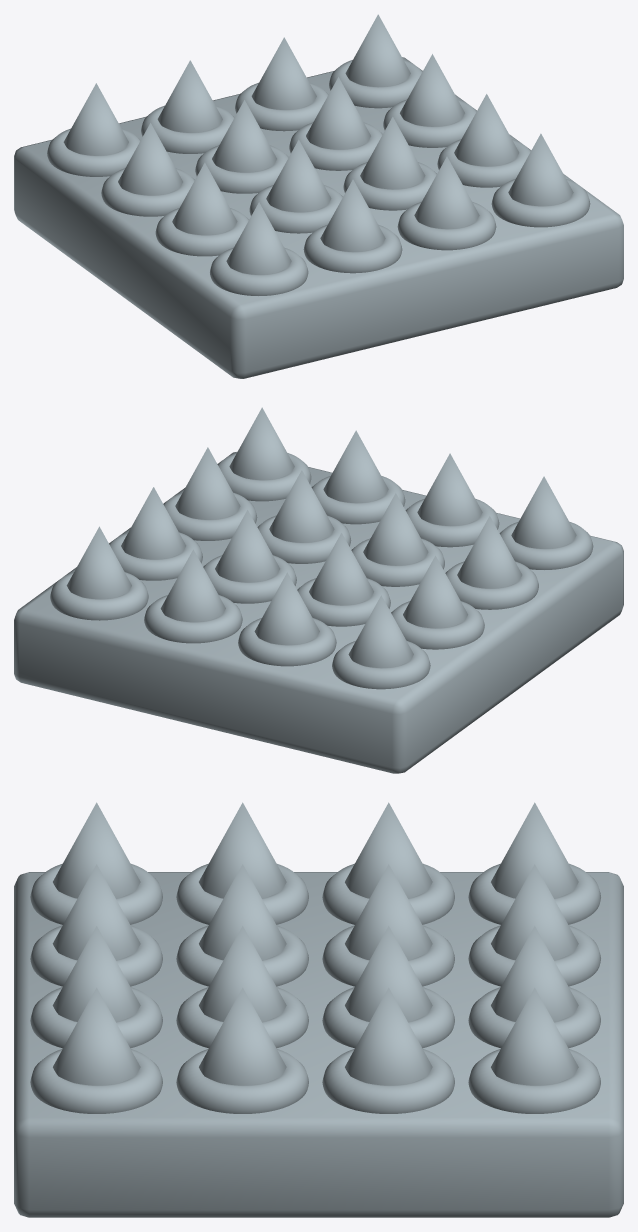
Rendered from trap.glb.
3 renders of one model, top to bottom at view 1: azimuth 30°, elevation 25°; view 2: azimuth 150°, elevation 25°; view 3: azimuth 270°, elevation 25°, orthographic. The views are drawn at different scales.
Visible parts, largest first — view 1: trap; view 2: trap; view 3: trap.
Boxes of the visible parts, x1,y1,x2,y2 form: trap: (14,14,623,378); trap: (14,407,623,773); trap: (14,802,623,1217).
Size of the model in its own units: 3.28 by 1.18 by 3.28.
